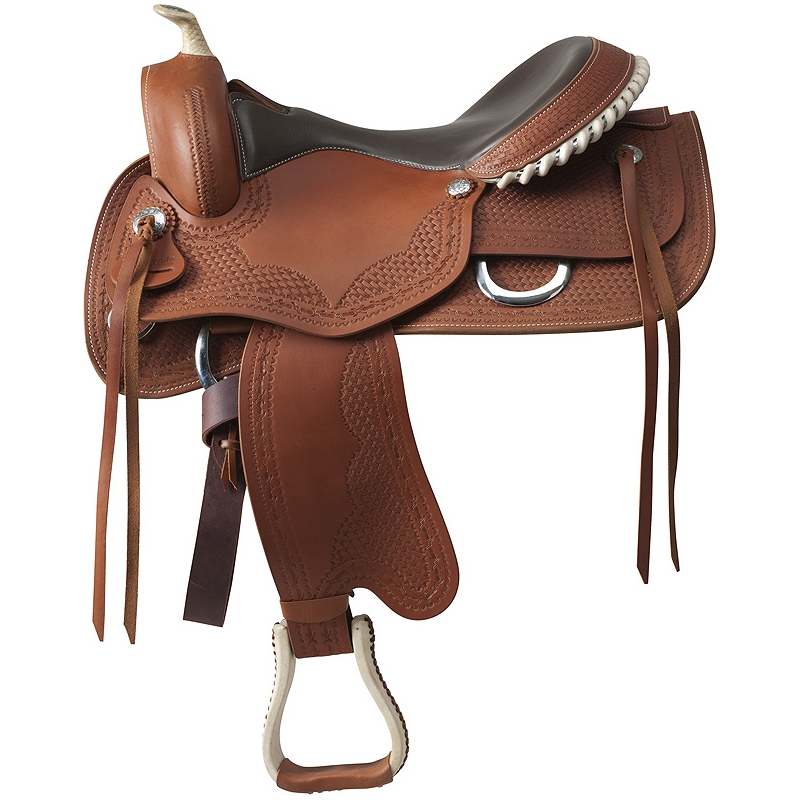saddle: (73, 3, 697, 652)
